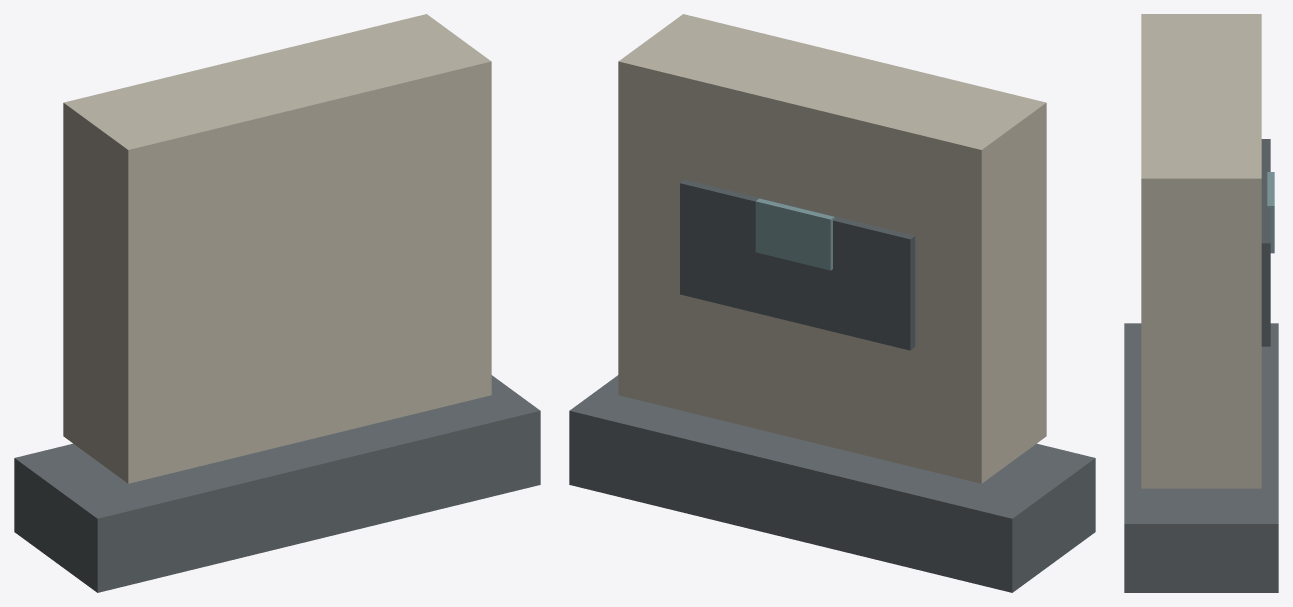
The model's file is iz3_military_armory_01.glb.
3 views of the same model, side by side, from view 1: azimuth 30°, elevation 25°; view 2: azimuth 150°, elevation 25°; view 3: azimuth 270°, elevation 25° (orthographic). The views are drawn at different scales.
Visible parts, largest first — view 1: cabinet, base; view 2: cabinet, base, panel, display; view 3: cabinet, base, panel, display.
Boxes of the visible parts, x1,y1,x2,y2 form: cabinet: [63, 14, 491, 483]; base: [14, 375, 540, 592]; cabinet: [618, 14, 1046, 483]; base: [569, 375, 1095, 592]; panel: [680, 179, 915, 350]; display: [755, 198, 834, 270]; cabinet: [1141, 14, 1261, 488]; base: [1124, 323, 1278, 592]; panel: [1261, 139, 1270, 346]; display: [1267, 172, 1274, 253].
Size of the model in its own units: 2 by 1.84 by 0.65.
